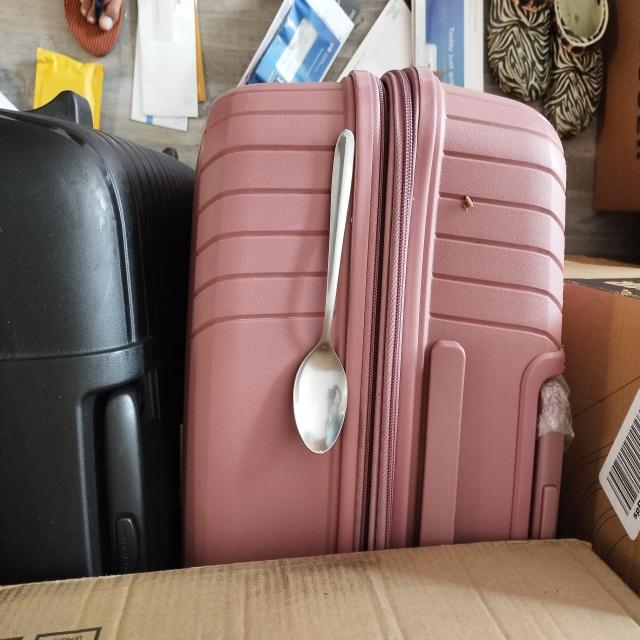Spoon: (290, 122, 368, 465)
